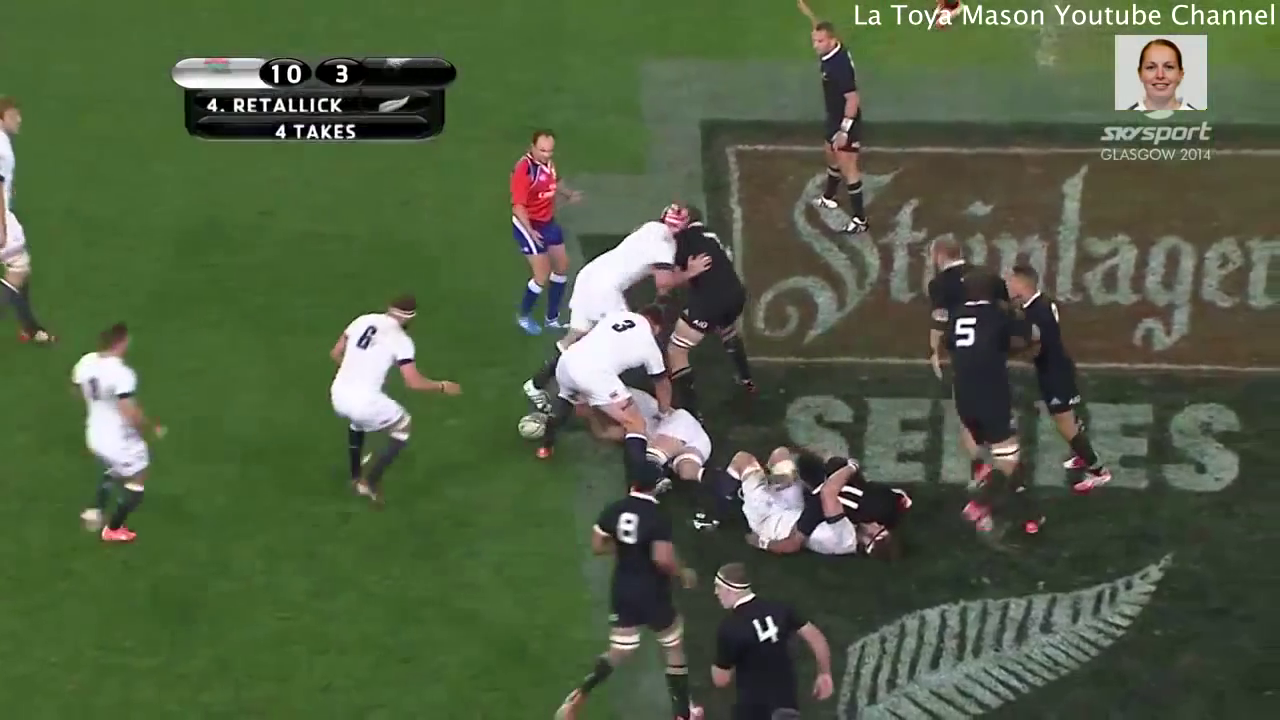ball: (508, 399, 557, 450)
player: (550, 459, 705, 720), (312, 285, 469, 521), (918, 261, 1049, 537), (513, 302, 680, 504), (520, 191, 716, 359), (1003, 255, 1121, 518), (59, 306, 183, 555), (654, 188, 773, 433), (769, 1, 889, 238), (701, 554, 862, 720), (713, 435, 906, 562), (491, 117, 584, 348), (1, 93, 77, 348), (814, 440, 918, 548), (903, 217, 986, 345)
